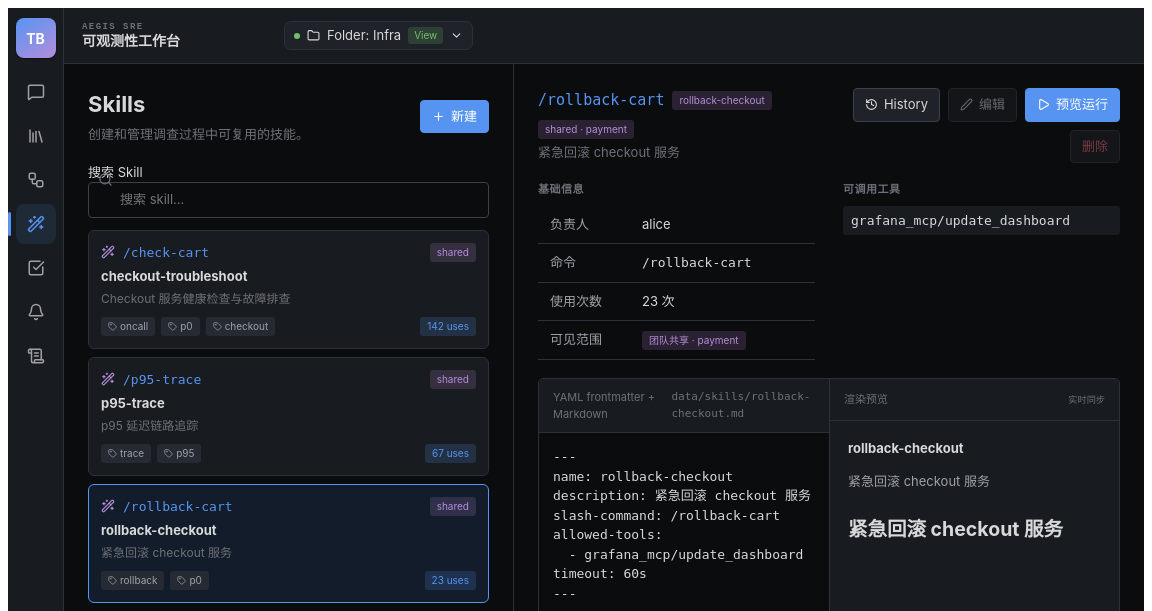
Test case: SkillsPage › pauses a write skill and exposes View-only HITL behavior
The image size is (1152, 611).
Expected: the text "/rollback-cart" below "搜索 Skill" is shown, [123,498,233,514]
What coordinates should you click on to do the following:
click the button "预览运行"
I would click on:
 (1072, 105)
Its box is [1025,88,1120,122].
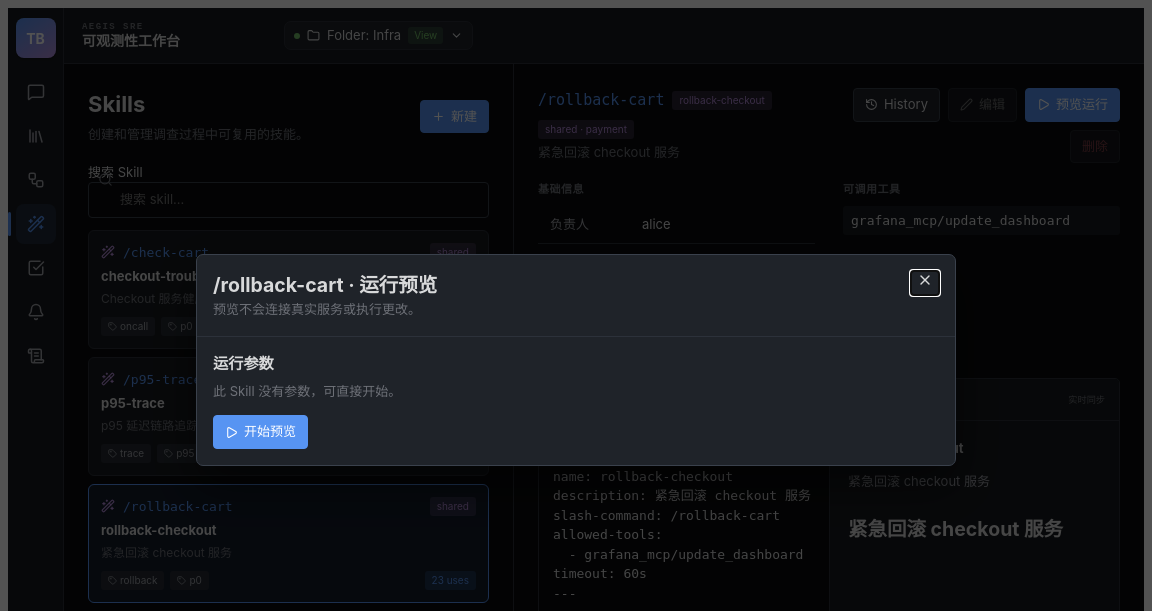
What coordinates should you click on to do the following:
click the button "开始预览"
I would click on:
 (260, 432)
Its box is [213,415,308,449].
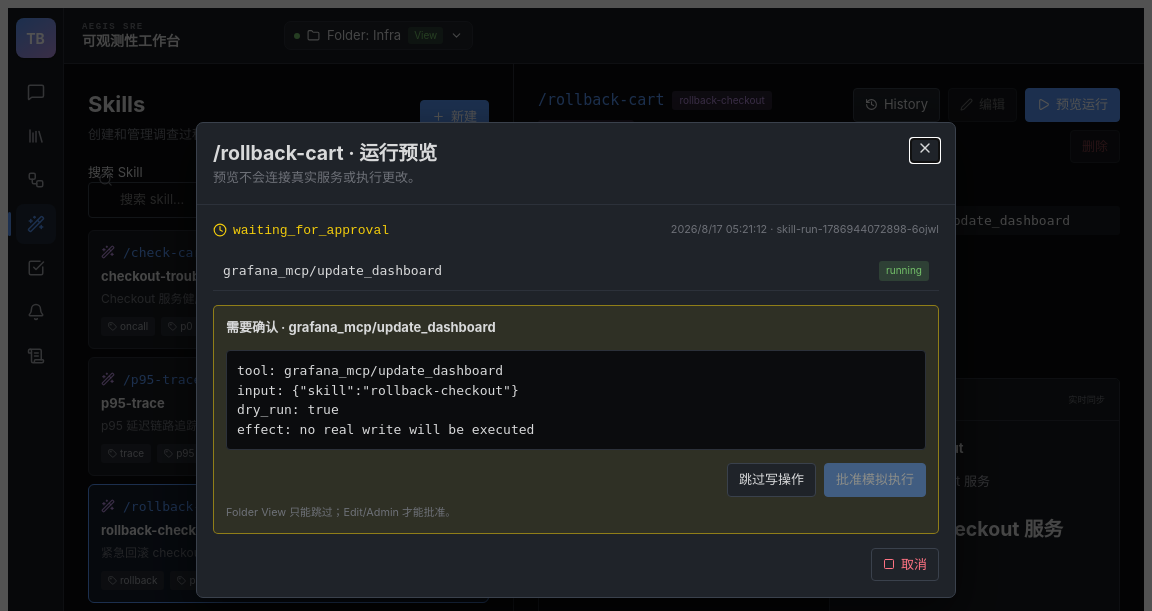
Result: the text "需要确认 · grafana_mcp/update_dashboard" is shown at [226,318,496,334]
Result: the button "批准模拟执行" is disabled at [824,463,926,496]
What coordinates should you click on to do the following:
click the button "跳过写操作"
I would click on:
 (772, 480)
Its box is [727,463,816,496].
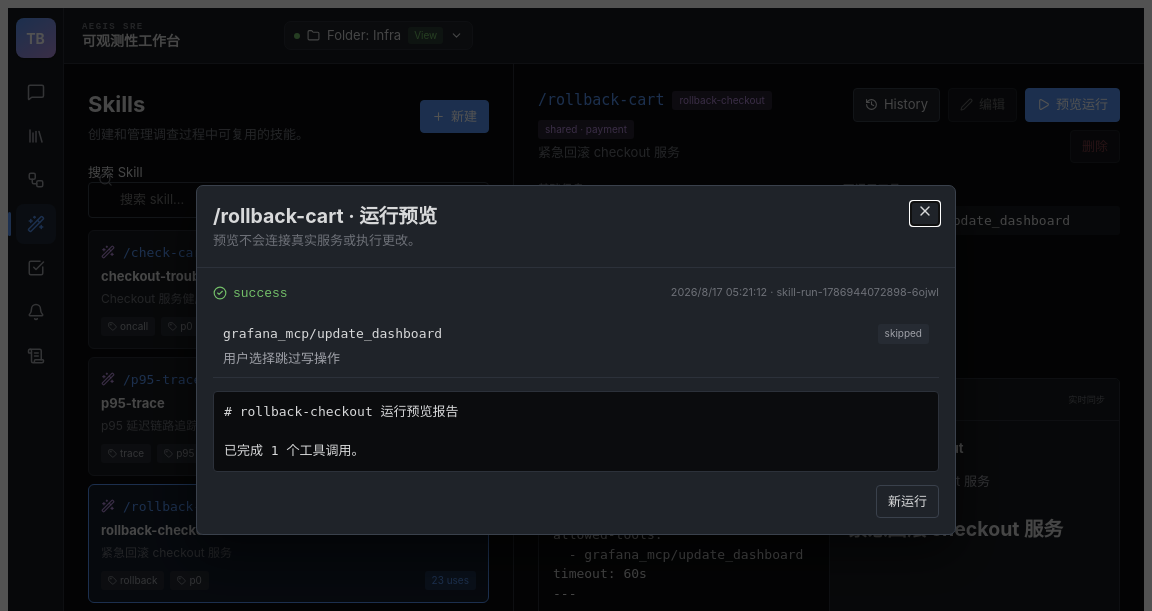
Result: the text "success" is shown at [213,284,288,303]
